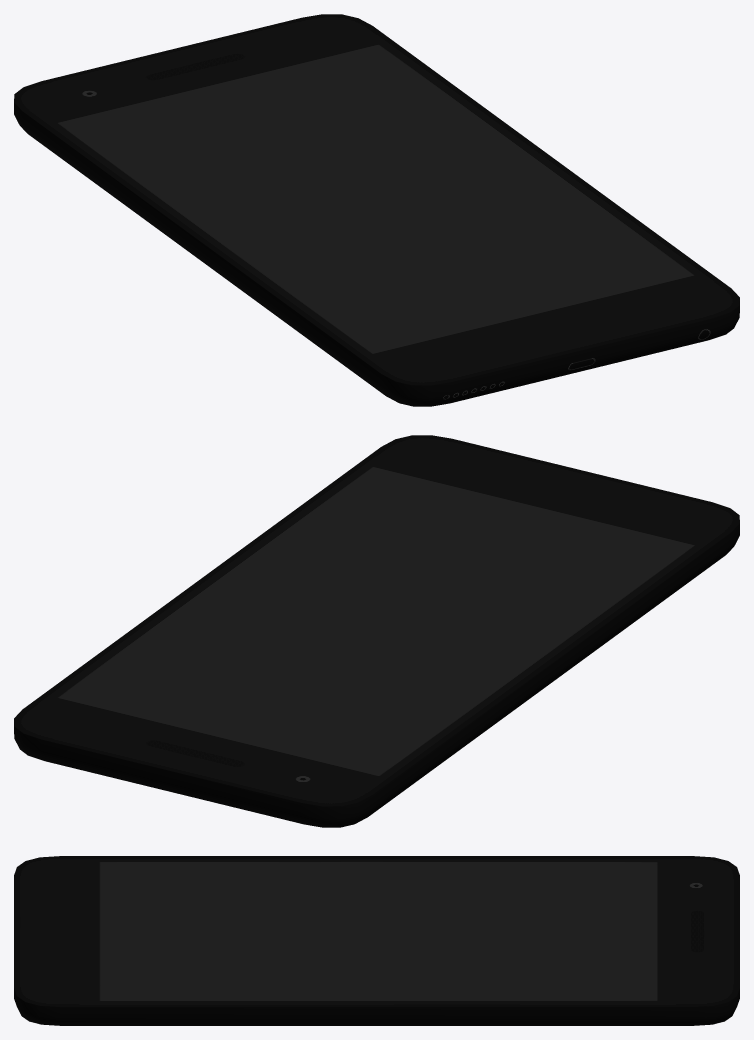
The model's file is Smartphone.FBX.
3 renders of one model, top to bottom at view 1: azimuth 30°, elevation 25°; view 2: azimuth 150°, elevation 25°; view 3: azimuth 270°, elevation 25°, orthographic. The views are drawn at different scales.
Parts seen in each view (by area): view 1: Smartphone; view 2: Smartphone; view 3: Smartphone.
Boxes of the visible parts, x1,y1,x2,y2 form: Smartphone: [14, 14, 739, 406]; Smartphone: [14, 435, 739, 827]; Smartphone: [14, 856, 739, 1025].
Size of the model in its own units: 3.06 by 0.2402 by 6.22.
